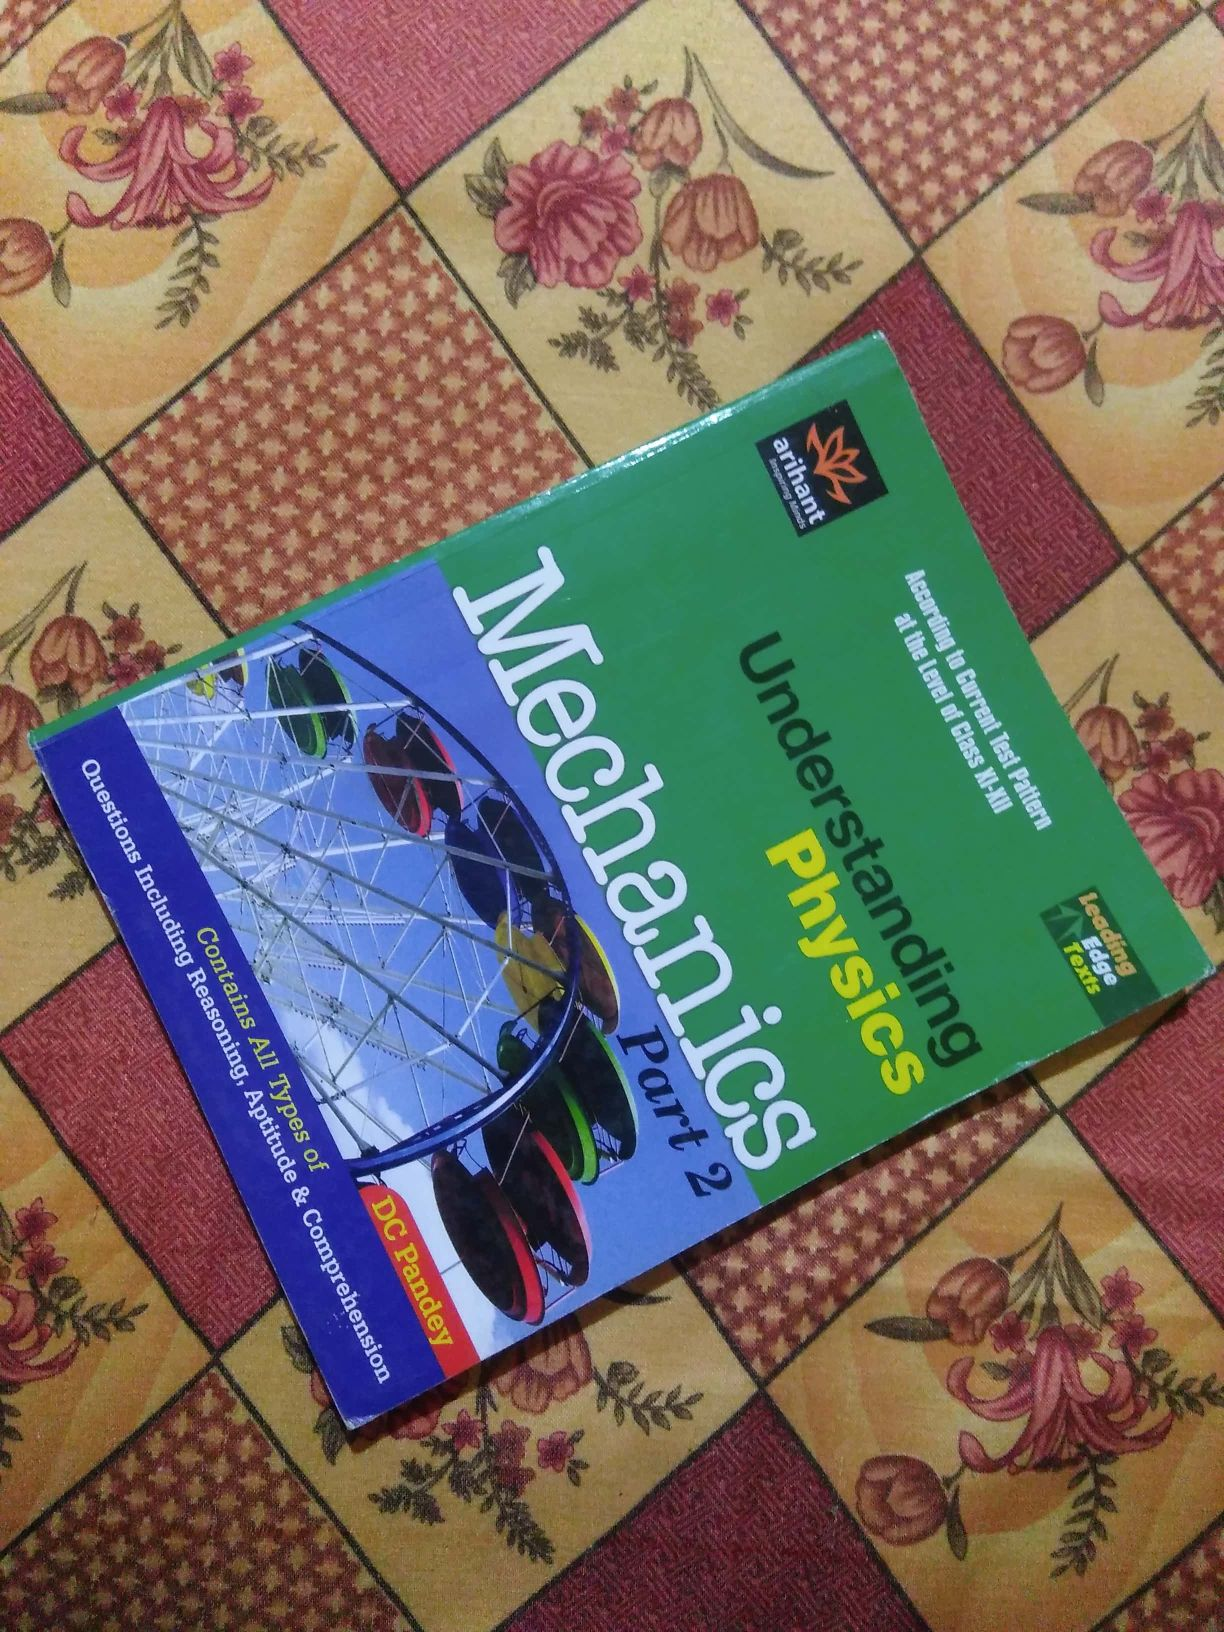mechanics: (73, 388, 1224, 1375)
